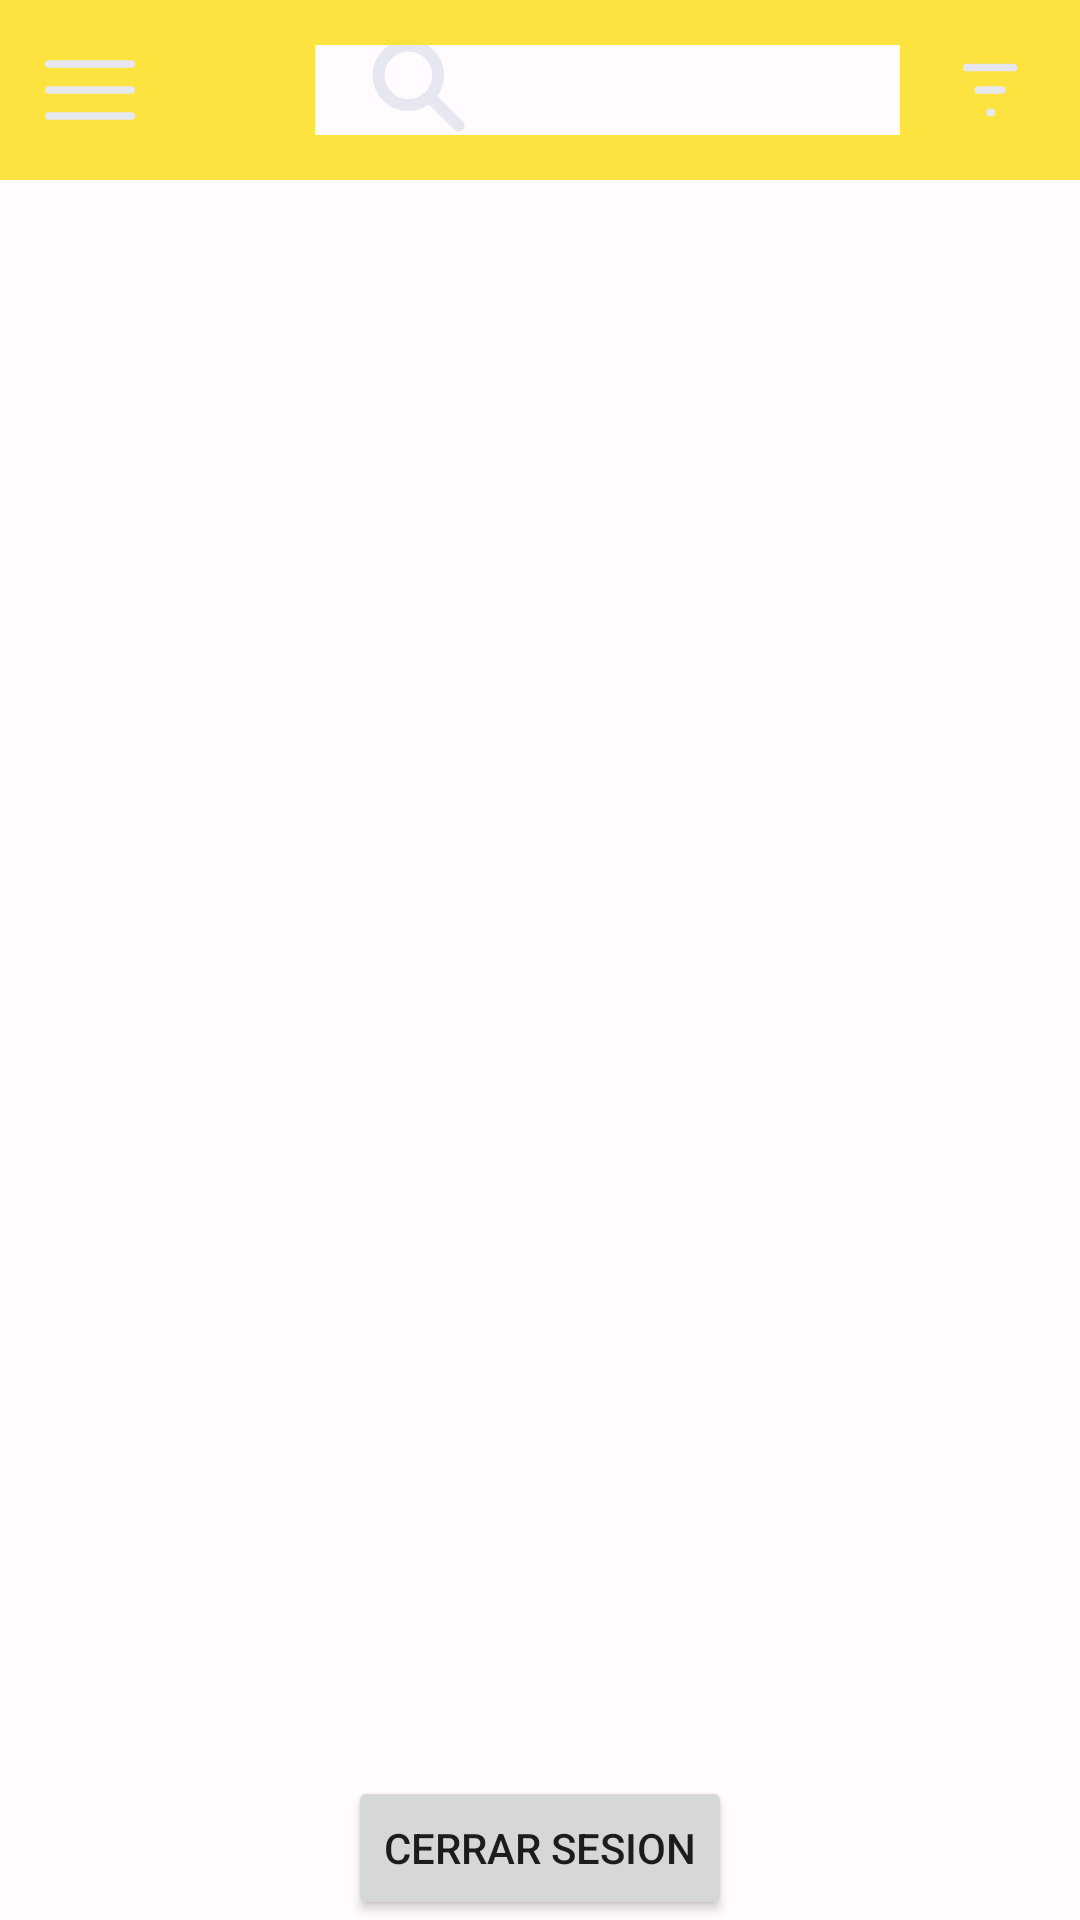

Point at icon controls on the screen. Image size 1080px x 1920px, points as (x=x, y=y).
filter: (x=990, y=90)
options: (x=90, y=90)
